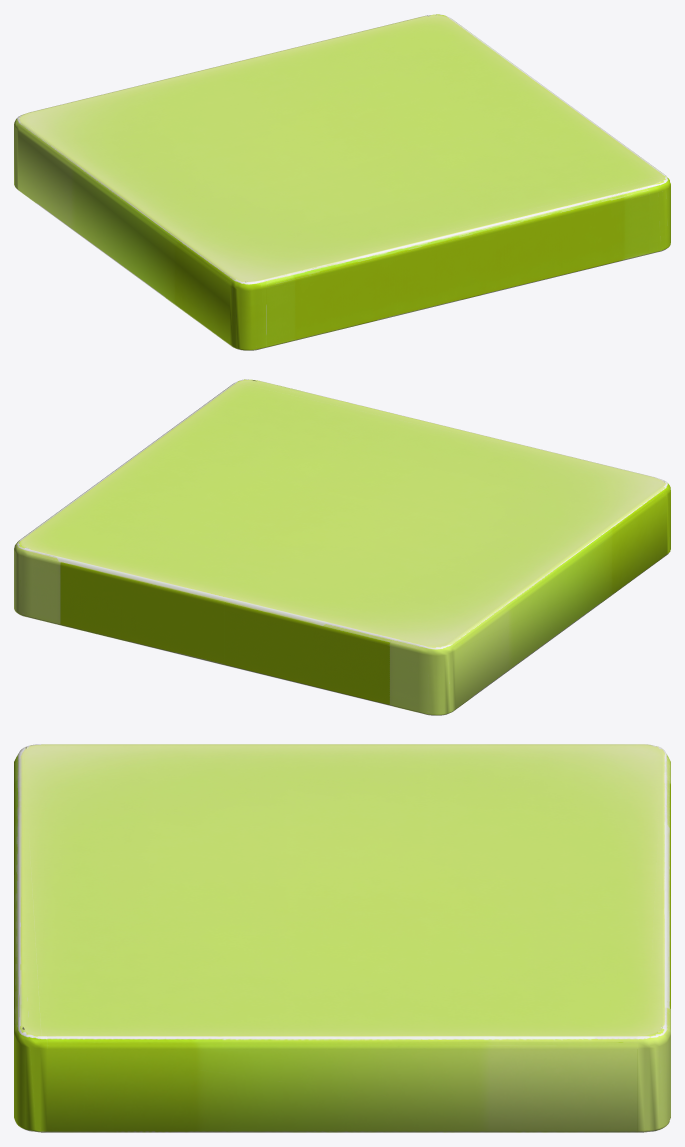
The model's file is Meshy_AI_Lime_Green_Platform_0608094103_texture.fbx.
3 views of the same model, one above another, from view 1: azimuth 30°, elevation 25°; view 2: azimuth 150°, elevation 25°; view 3: azimuth 270°, elevation 25° (orthographic). The views are drawn at different scales.
Visible parts, largest first — view 1: Mesh_0; view 2: Mesh_0; view 3: Mesh_0.
Part boxes in pixels (box(x1,y1,x2,y2)): Mesh_0: box(14, 14, 670, 350); Mesh_0: box(14, 379, 670, 715); Mesh_0: box(14, 744, 670, 1132).
Bounding box in the file's own units: 686 × 100 × 638.
1 material, 1 textured.
